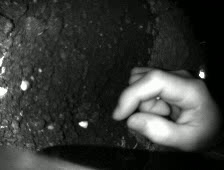corn: (17, 77, 33, 92), (77, 118, 90, 130)
